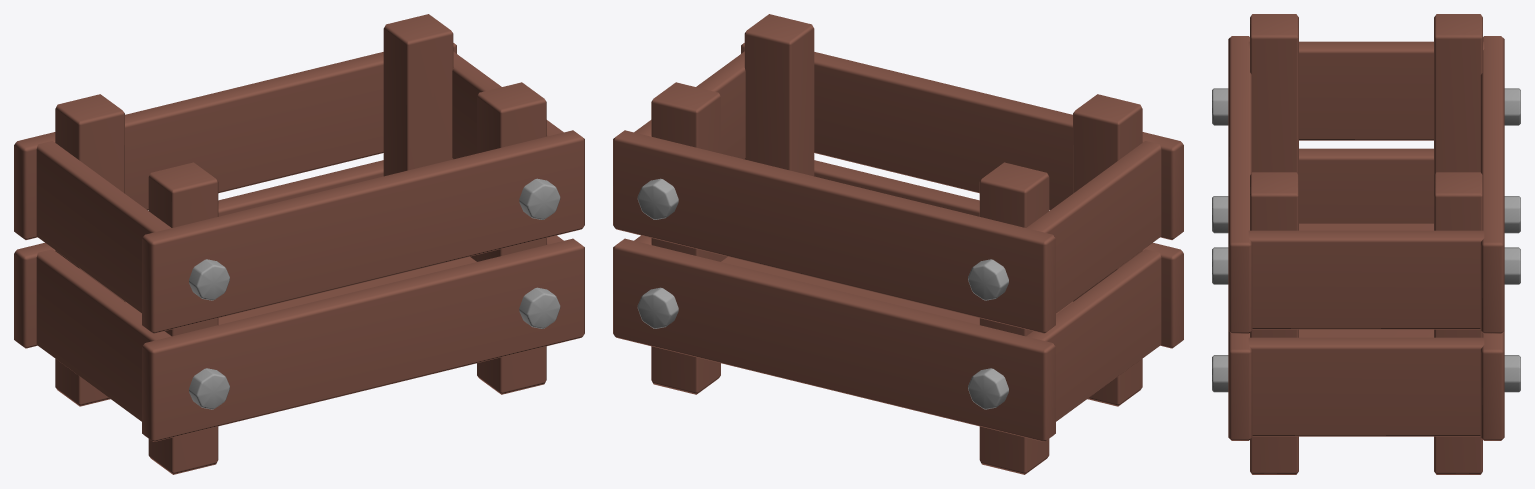
The model's file is Store_10_Box_2.glb.
3 views of the same model, side by side, from view 1: azimuth 30°, elevation 25°; view 2: azimuth 150°, elevation 25°; view 3: azimuth 270°, elevation 25° (orthographic).
Visible parts, largest first — view 1: Store_10_Box_2; view 2: Store_10_Box_2; view 3: Store_10_Box_2.
Boxes of the visible parts, left/top/right/bottom form: Store_10_Box_2: left=14, top=14, right=584, bottom=474; Store_10_Box_2: left=613, top=14, right=1183, bottom=474; Store_10_Box_2: left=1212, top=14, right=1520, bottom=474.
Bounding box in the file's own units: 0.8404 × 0.5283 × 0.5242.
1 material, 1 textured.
